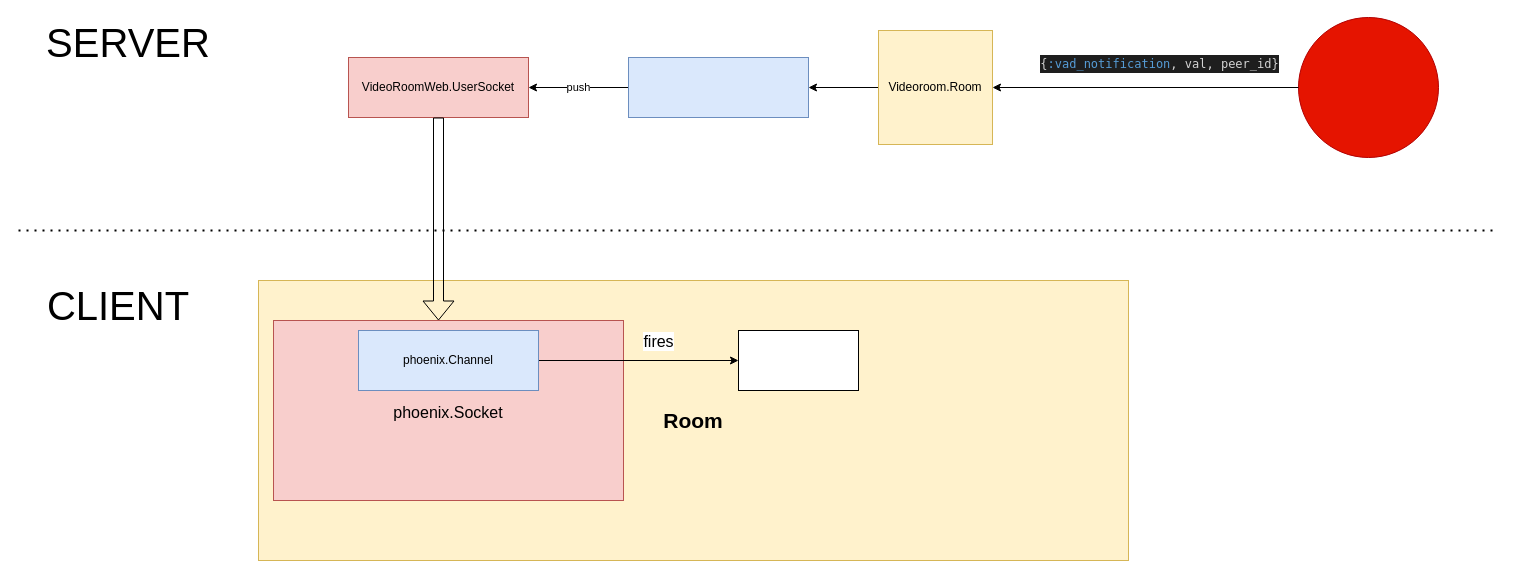
Some shapes in this 1517 by 578 pixel diagram are drawn without their labels. Each missing label, with the box of its shape:
.on() callback: (738, 330, 858, 390)
Membrane.RTC.Engine: (1298, 16, 1438, 158)
VideoRoomWeb.PeerChannel: (628, 56, 808, 118)
